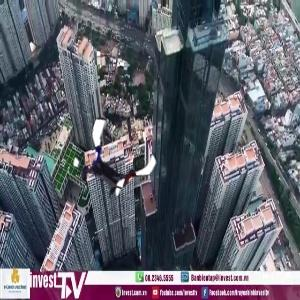drone: (74, 120, 159, 205)
